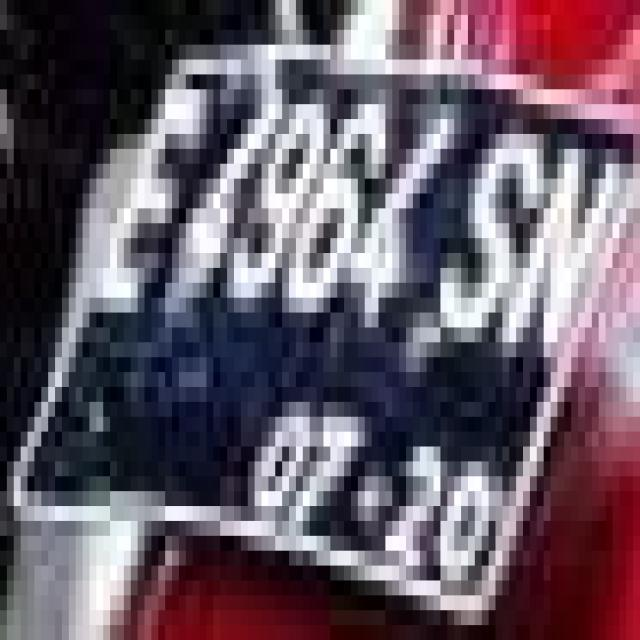plate: (14, 44, 612, 580)
